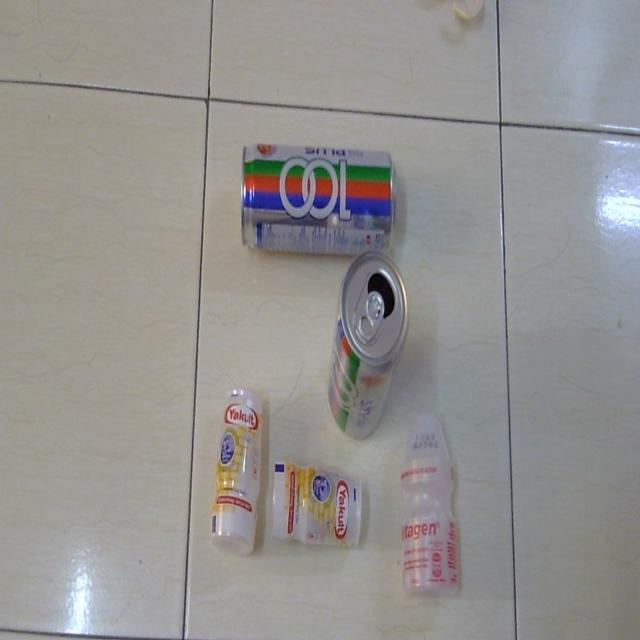metal_laydown_0rotation: (232, 136, 404, 268)
metal_standrotation: (327, 248, 412, 445)
plastic_laydown_0rotation: (271, 456, 375, 558)
plastic_laydown_90rotation: (395, 405, 467, 597), (211, 372, 266, 561)
